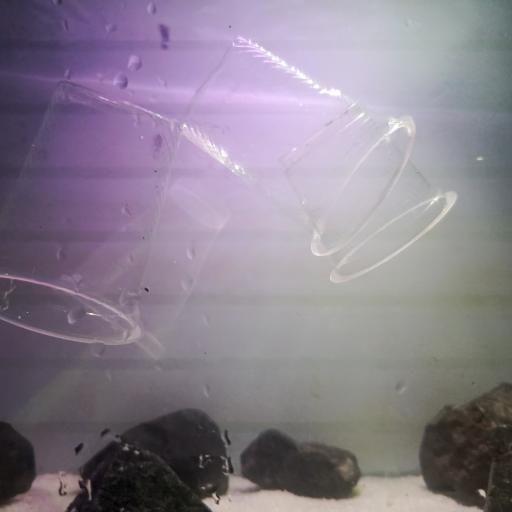plastic_cup: (178, 34, 418, 260), (0, 76, 182, 350), (276, 103, 462, 287), (52, 178, 224, 364)
